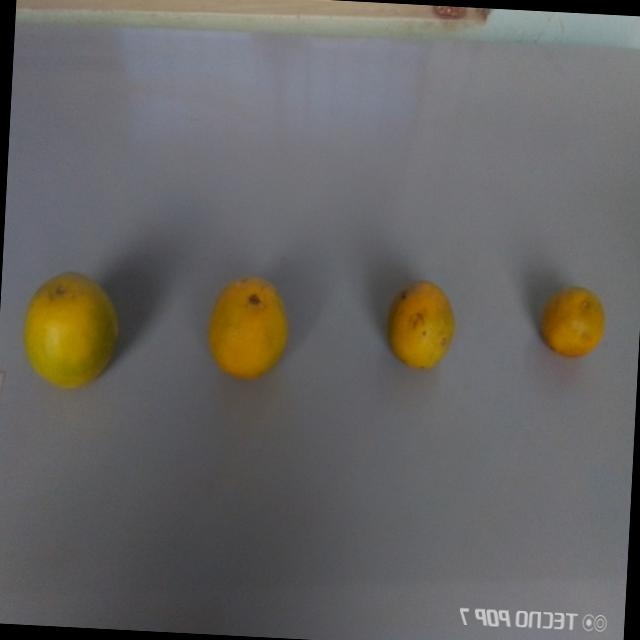agrume: (16, 262, 129, 398), (203, 269, 297, 387), (528, 280, 616, 360), (387, 278, 460, 370)
